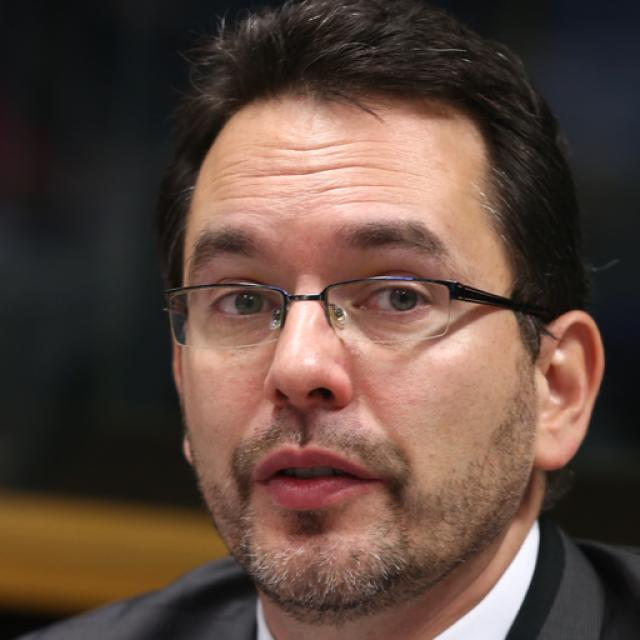Wrinkle: (230, 158, 435, 181), (268, 137, 393, 154), (322, 181, 426, 195), (335, 194, 413, 206), (215, 190, 266, 202)
